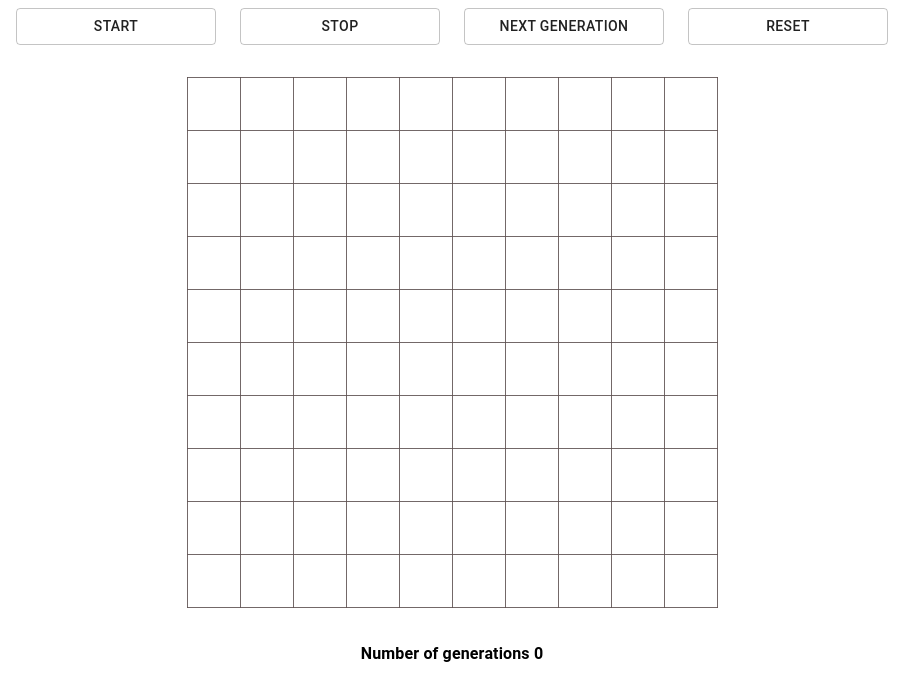
Test: Simulator › should increase number of generations when user clicks next generation
Expected: the text "Number of generations 0" is shown, top-left (361, 644), bottom-right (543, 662)
Click the button "Next generation" at (564, 26), box top-left (464, 8), bottom-right (664, 44)
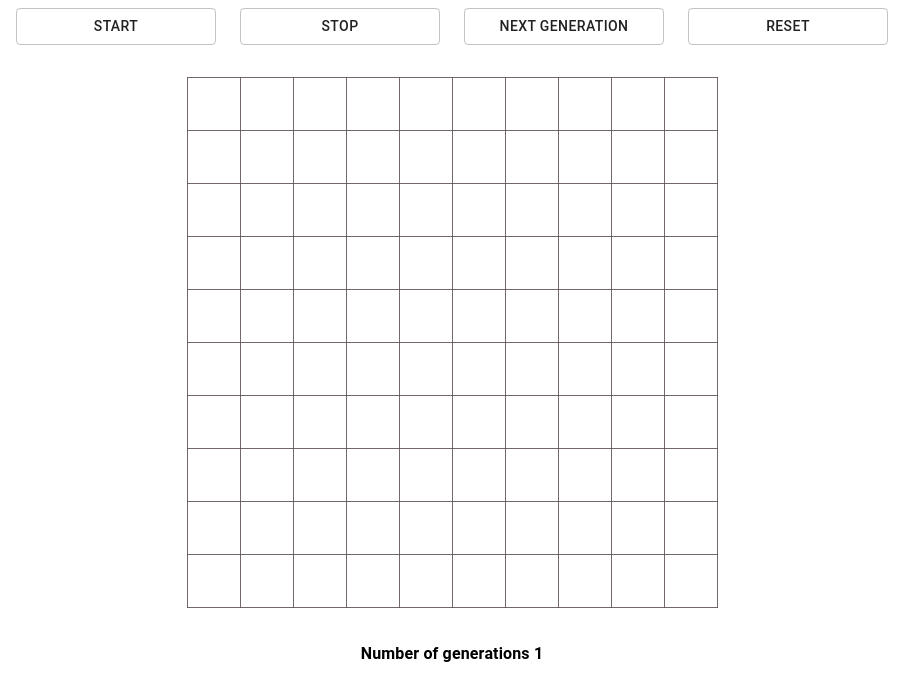
Now the text "Number of generations 1" is shown, box top-left (361, 644), bottom-right (543, 662)
